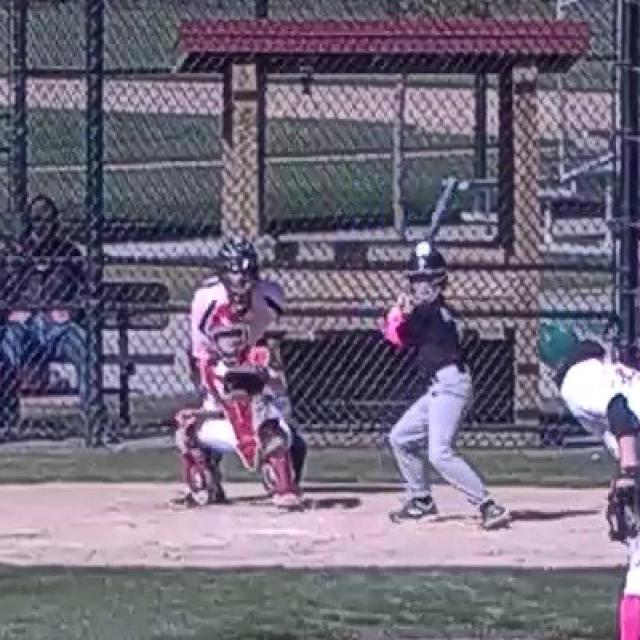baseball: (416, 242, 430, 256)
